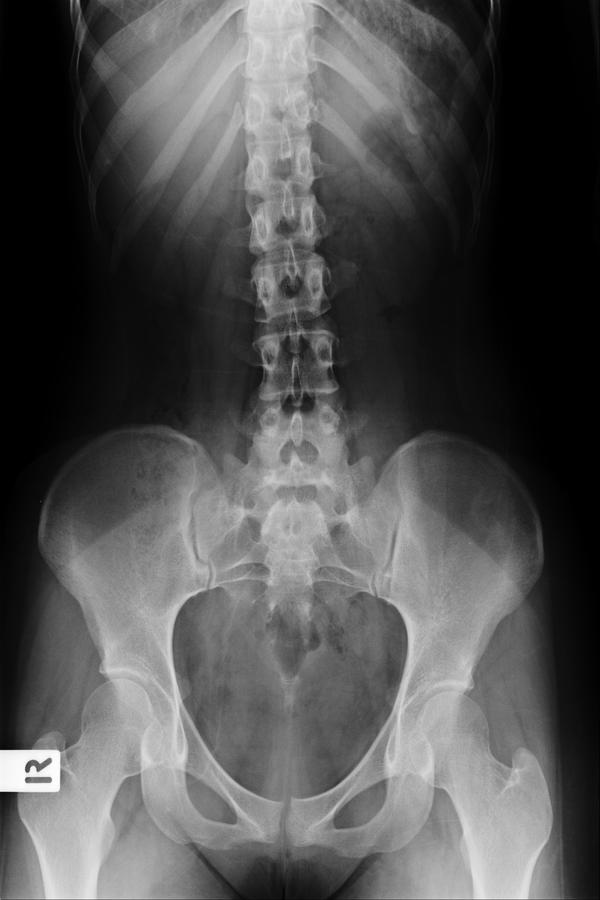lumbar scoliosis: (234, 154, 355, 504)
